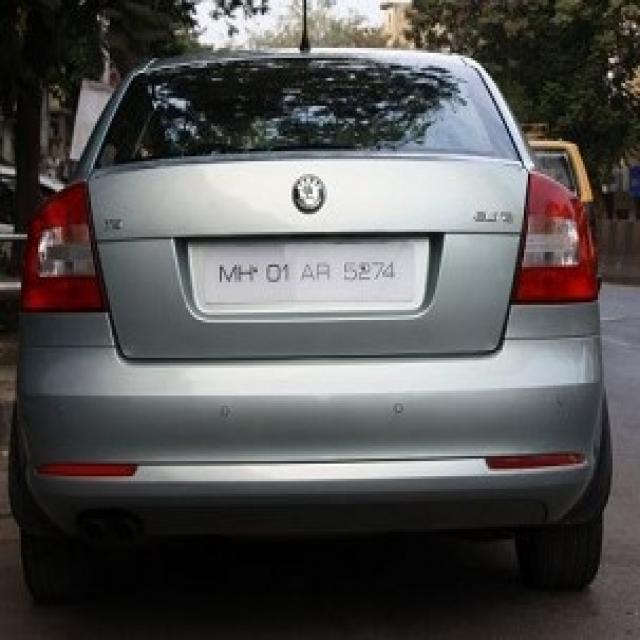Plate: (202, 241, 419, 304)
